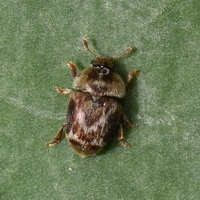insect: (45, 39, 139, 156)
